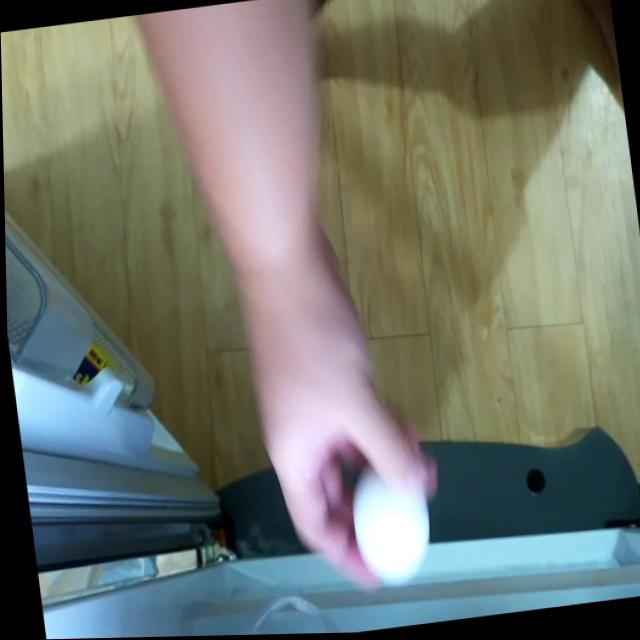egg: (343, 453, 431, 580)
